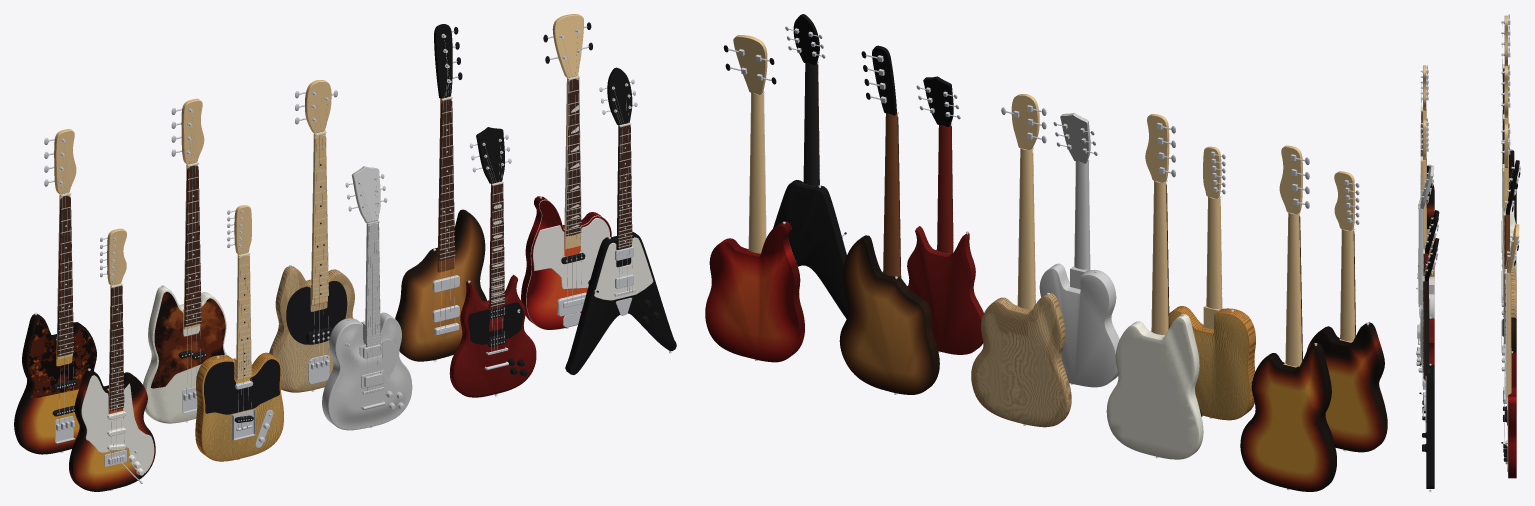
Rendered from BandInstruments.obj.
3 views of the same model, side by side, from view 1: azimuth 30°, elevation 25°; view 2: azimuth 150°, elevation 25°; view 3: azimuth 270°, elevation 25° (orthographic). The views are drawn at different scales.
Visible parts, largest first — view 1: Tempest_Body, Heritage_Top, CrimsonHorn_Body, Valkyrie_Body, Prairie_Body, Skyline_Body, Manta_Body, Foundation_Guard, Velvet_Body, Crestwave_Body, Skyline_Guard, Foundation_Body (+40 smaller); view 2: Foundation_Body, Velvet_Body, Tempest_Body, Crestwave_Body, Manta_Body, Skyline_Body, Heritage_Body, CrimsonHorn_Body, Prairie_Body, Valkyrie_Body, Crestwave_Neck, Manta_Neck (+12 smaller); view 3: Valkyrie_Body, Crestwave_Body, Crestwave_Neck, Valkyrie_Neck, Prairie_Neck, Manta_Neck, Heritage_Neck, Crestwave_Binding, Foundation_Neck, Manta_Body, Skyline_Body, Velvet_Neck (+30 smaller).
Part boxes in pixels (x1,y1,x2,y2): Tempest_Body: (395,209,486,361); Heritage_Top: (329,318,411,429); CrimsonHorn_Body: (449,274,536,397); Valkyrie_Body: (565,231,676,374); Prairie_Body: (195,352,283,461); Skyline_Body: (69,370,155,491); Manta_Body: (269,266,354,392); Foundation_Guard: (151,291,225,388); Velvet_Body: (14,314,96,454); Crestwave_Body: (521,196,611,329); Skyline_Guard: (81,375,154,473); Foundation_Body: (143,286,226,423); Foundation_Body: (1106,314,1203,459); Velvet_Body: (1240,343,1336,491); Tempest_Body: (839,235,939,394); Crestwave_Body: (705,221,804,362); Manta_Body: (971,293,1071,427); Skyline_Body: (1307,322,1387,452); Heritage_Body: (1039,263,1119,387); CrimsonHorn_Body: (907,226,983,354); Prairie_Body: (1169,306,1255,420); Valkyrie_Body: (773,180,848,318); Crestwave_Neck: (733,35,767,253); Manta_Neck: (1011,94,1039,309); Valkyrie_Body: (1426,365,1434,488); Crestwave_Body: (1508,352,1516,478); Crestwave_Neck: (1507,224,1519,409); Valkyrie_Neck: (1424,277,1430,380); Prairie_Neck: (1422,120,1426,248); Manta_Neck: (1504,124,1508,210); Heritage_Neck: (1420,204,1424,305); Crestwave_Binding: (1505,274,1508,477); Foundation_Neck: (1504,66,1508,195); Manta_Body: (1511,260,1516,318); Skyline_Body: (1426,165,1434,228); Velvet_Neck: (1504,15,1509,181).
Bounding box in the file's own units: 8.52 × 4.44 × 1.6.
